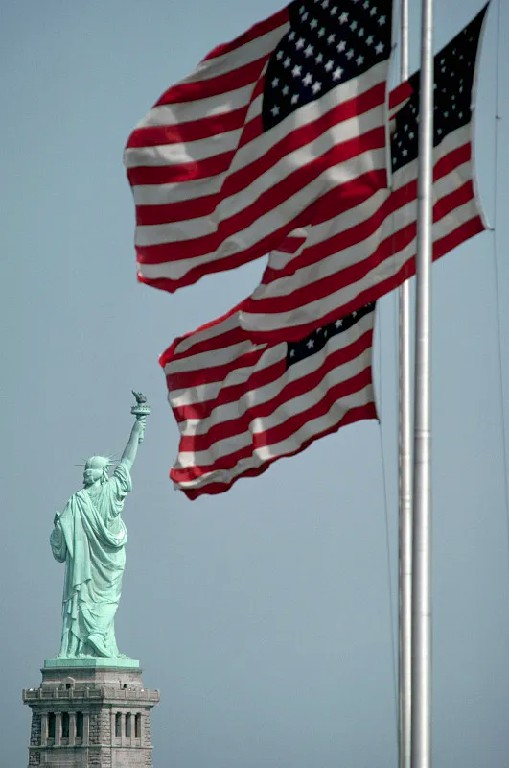SL: (20, 389, 160, 768)
